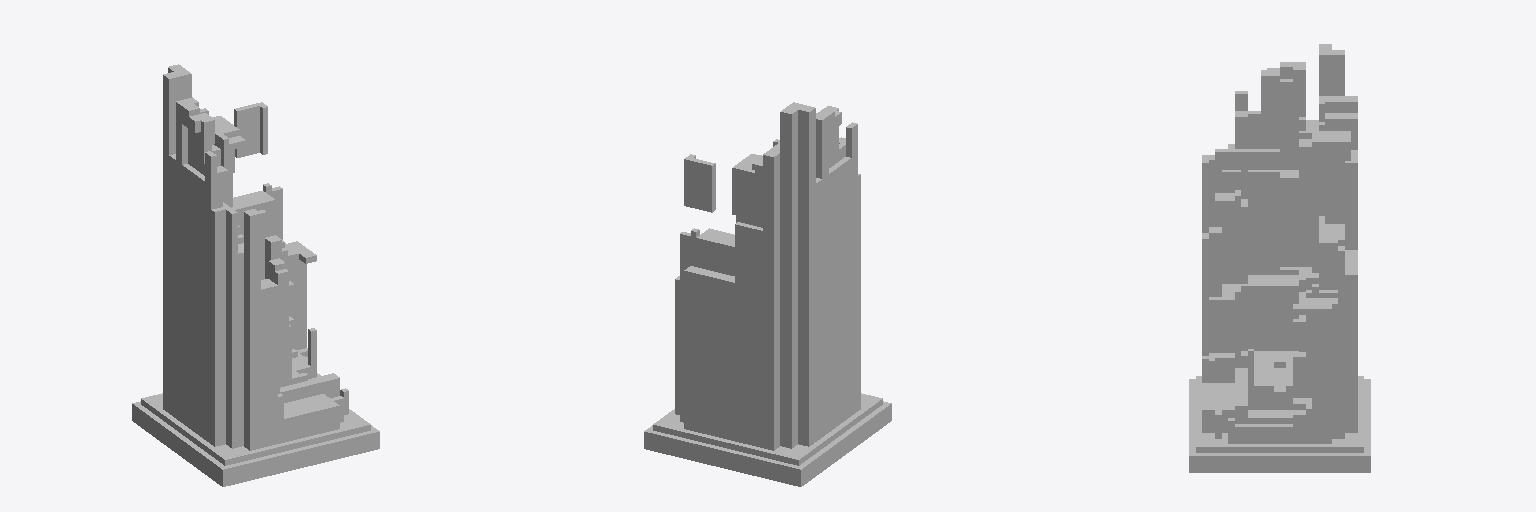
The model's file is filar 6.obj.
3 views of the same model, side by side, from view 1: azimuth 30°, elevation 25°; view 2: azimuth 150°, elevation 25°; view 3: azimuth 270°, elevation 25° (orthographic).
Visible parts, largest first — view 1: object 1; view 2: object 1; view 3: object 1.
Boxes of the visible parts, x1=… form: object 1: x1=132, y1=64, x2=379, y2=486; object 1: x1=644, y1=102, x2=891, y2=486; object 1: x1=1189, y1=44, x2=1370, y2=472.
Bounding box in the file's own units: 2.8 × 6.1 × 2.8.